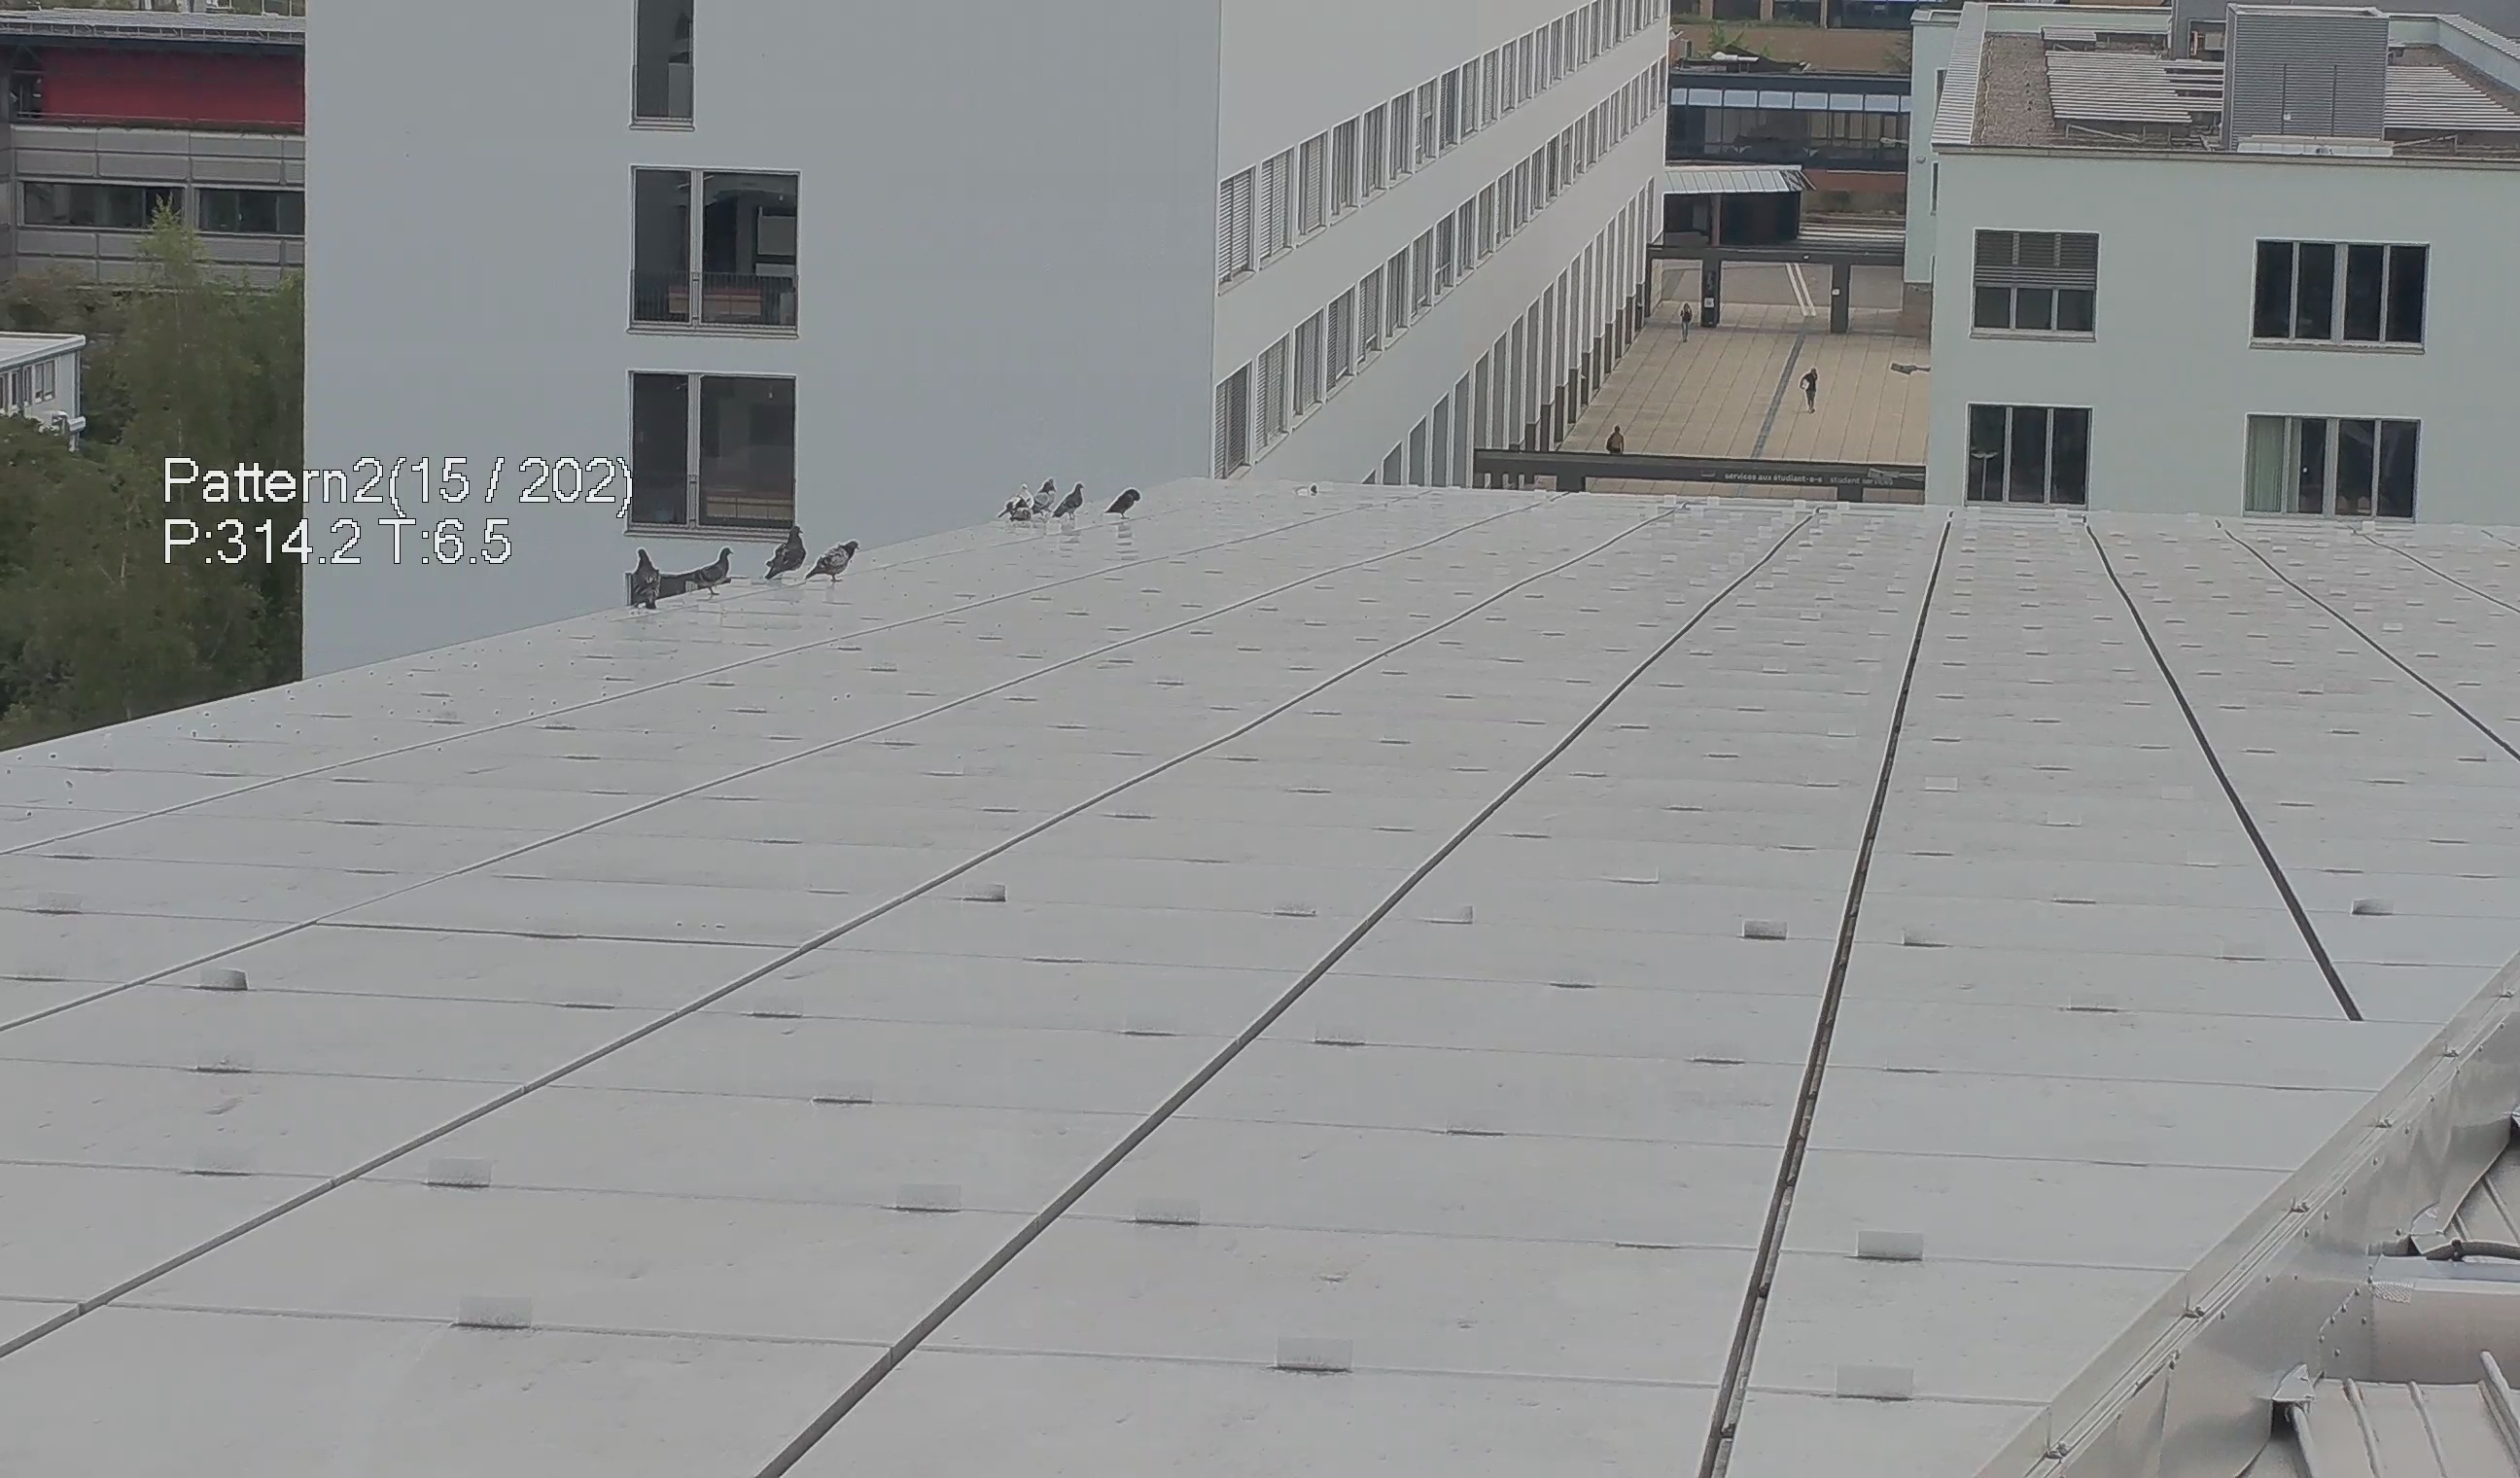Pigeon: (674, 545, 740, 604), (617, 542, 670, 614), (760, 521, 812, 588), (811, 542, 862, 584), (997, 480, 1036, 528), (1053, 479, 1089, 521), (1101, 486, 1145, 519), (1034, 473, 1057, 516)
